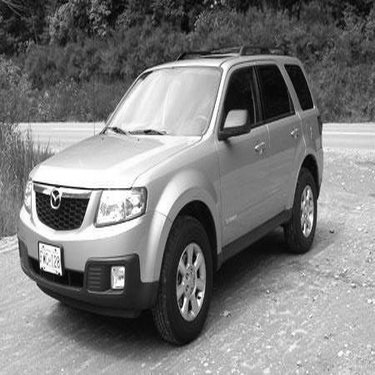car: (4, 47, 365, 343)
